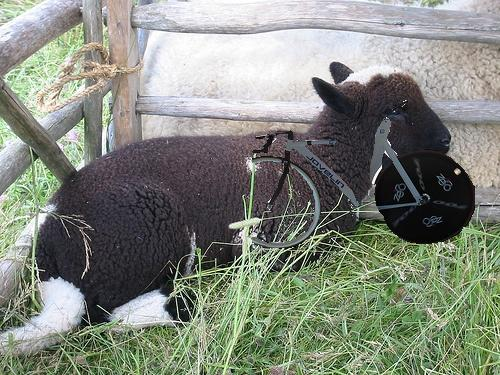tampered: (253, 101, 475, 248)
